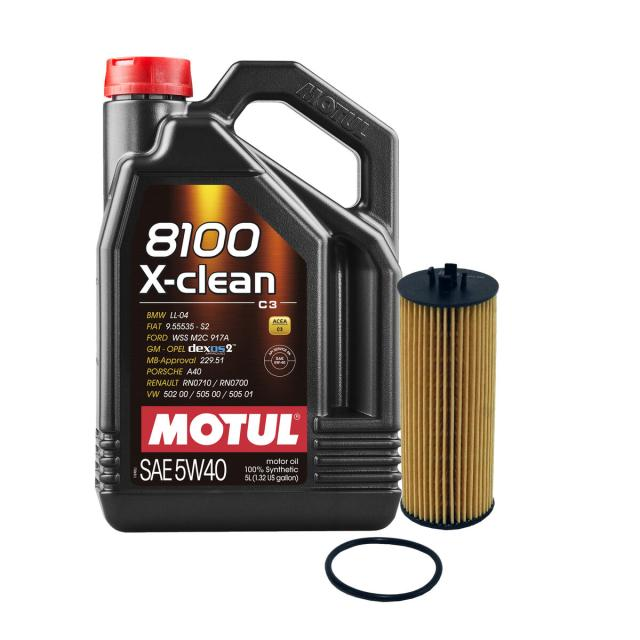motor_oil: (90, 45, 403, 531)
oil_filter: (395, 258, 502, 532)
